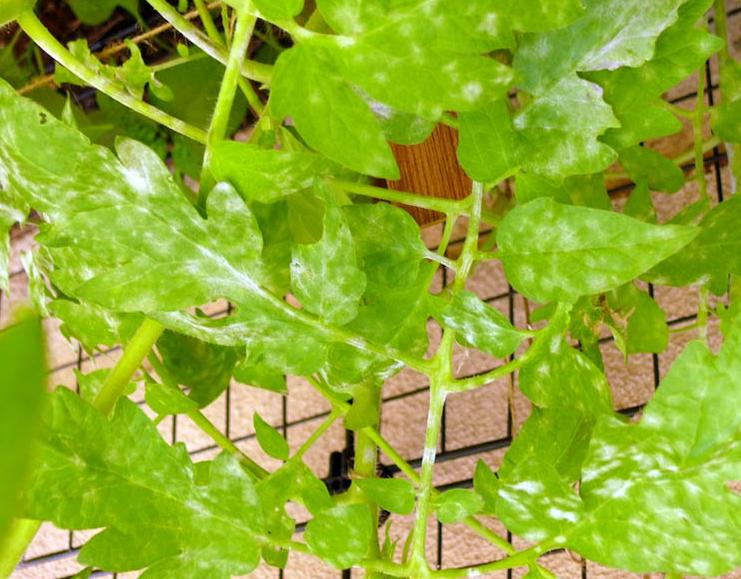Tomato mold leaf: (0, 67, 362, 378), (552, 78, 741, 562), (257, 0, 596, 181), (0, 403, 312, 579), (477, 201, 724, 306), (421, 288, 513, 359)
